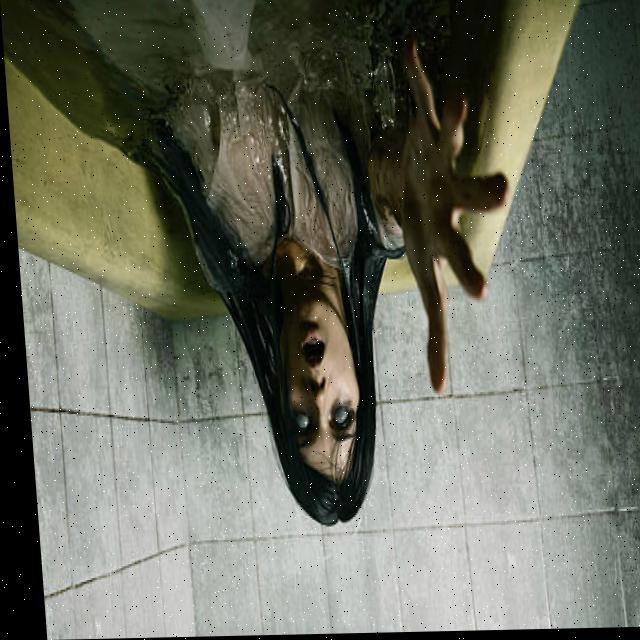Zombie: (256, 288, 372, 532)
